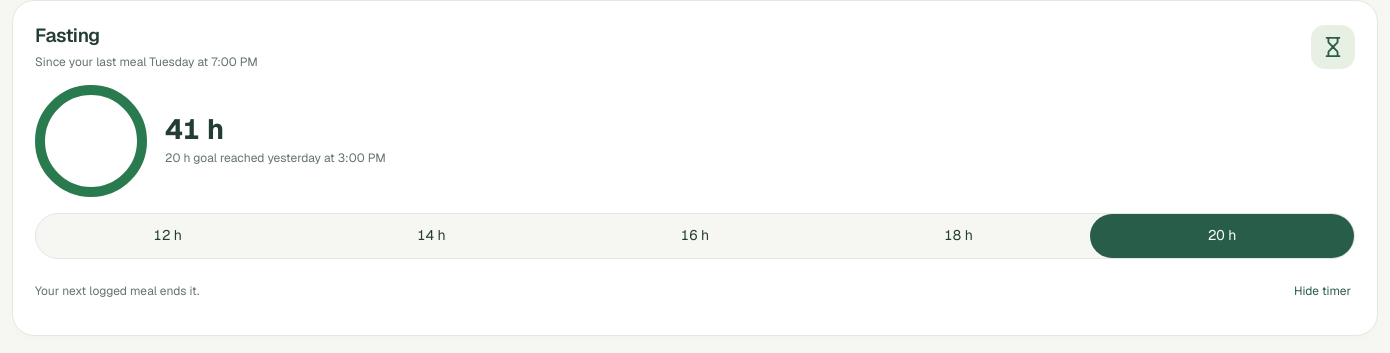
Scenario: fasting timer › names the weekday for older meals and hides on request
Click the button "Hide timer": (1323, 291) [1290,269,1355,313]
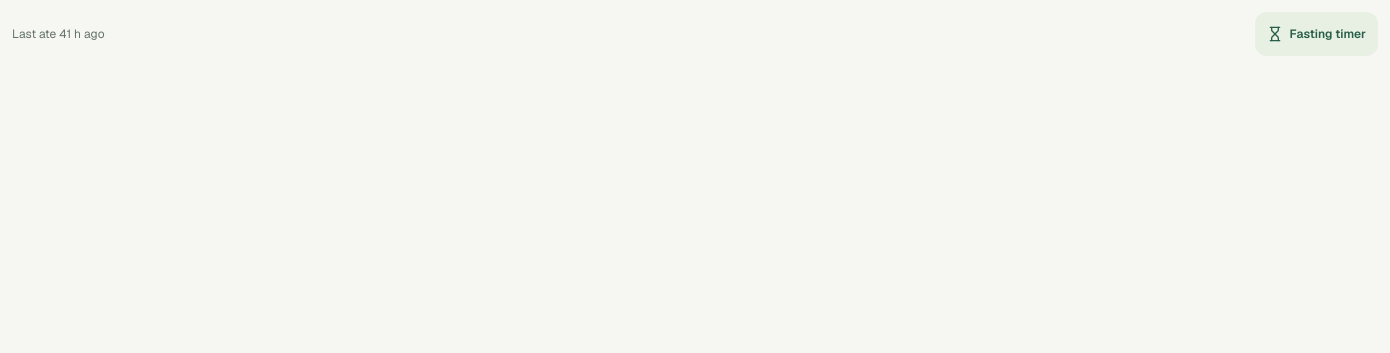
Now the text "Last ate 41 h ago" is shown, box [12,25,104,43]
